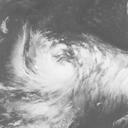cyclone: (17, 35, 76, 93)
